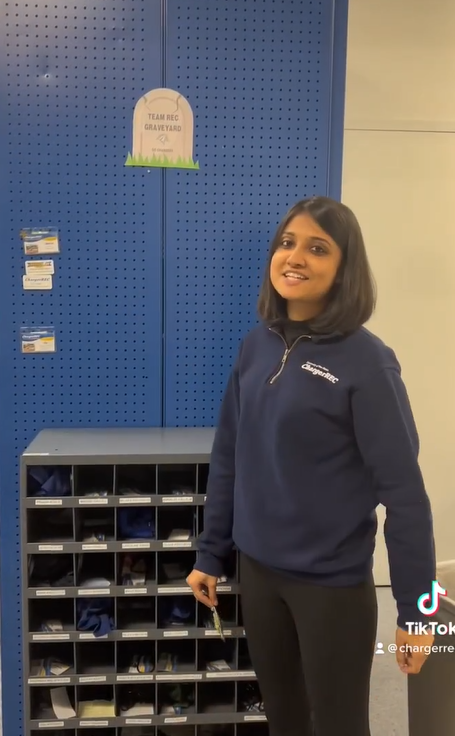Staff: (218, 182, 424, 424)
